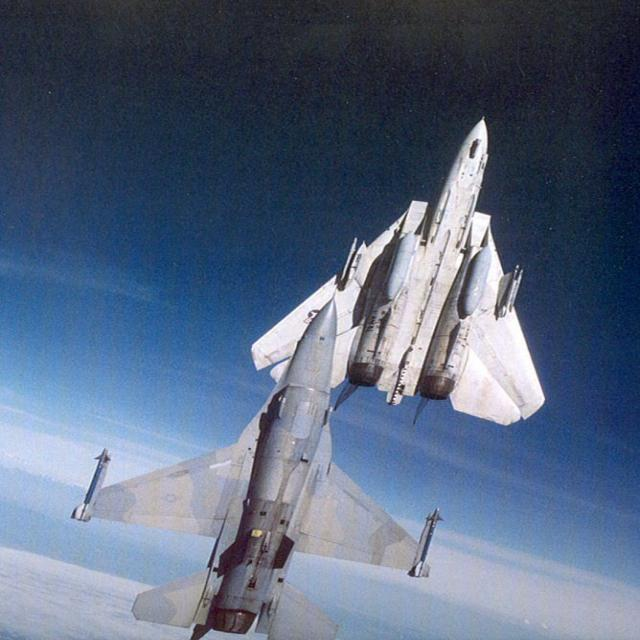MIL_Plane: (71, 291, 445, 640), (250, 116, 544, 427)
